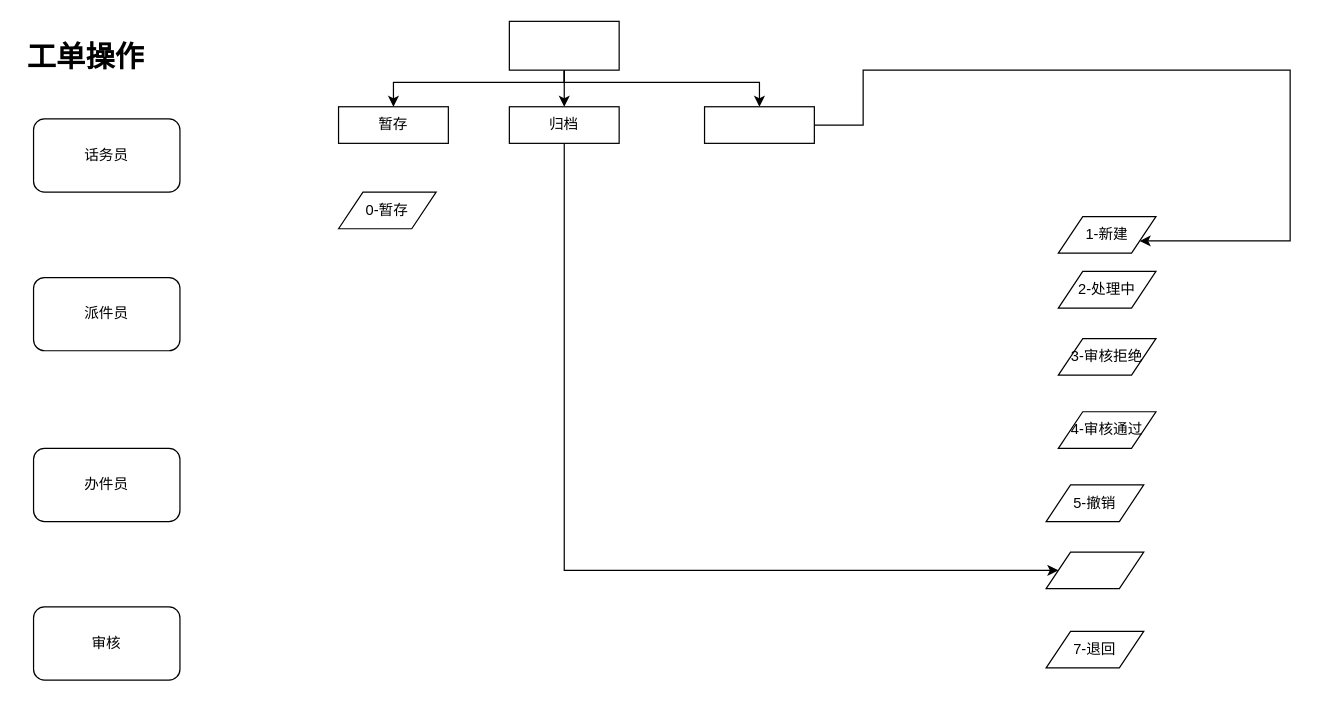
Image size: 1321x702. Some labels were removed from this diagram. The shapes that lost their labels are listed below. From the top down, each one's centre as x and y in pixels, then its label:
(x=563, y=45): 电话接听
(x=758, y=124): 提交
(x=1094, y=570): 6-办结
